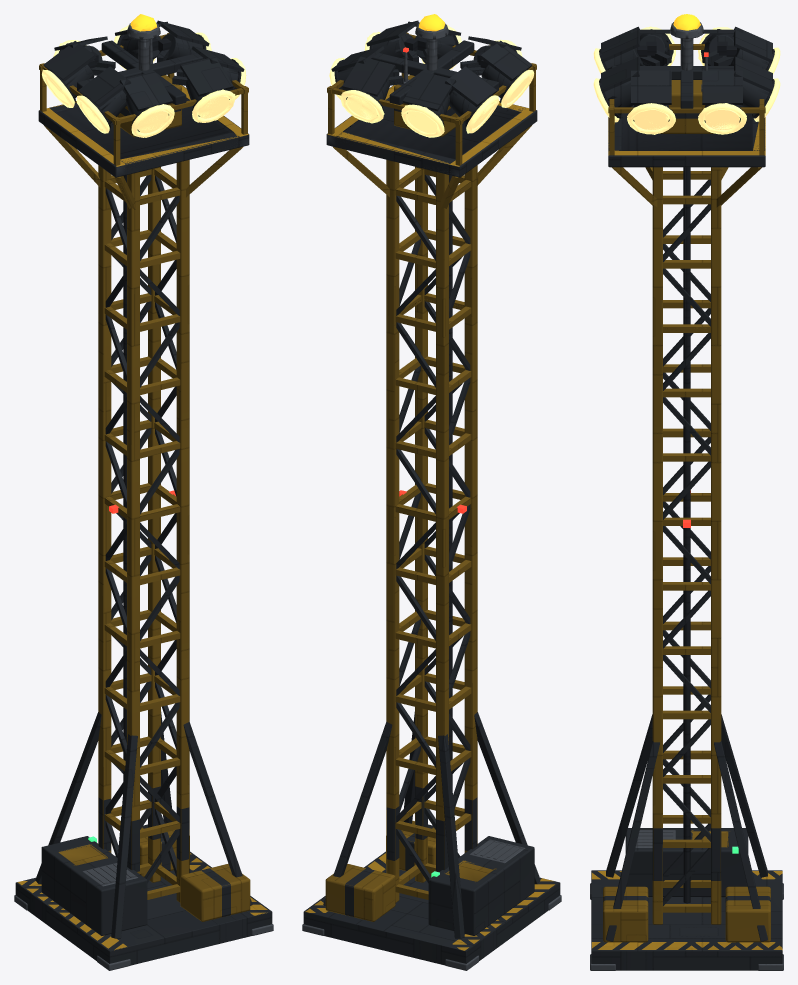
File: place_worklight_tower.glb
3 views of the same model, side by side, from view 1: azimuth 30°, elevation 25°; view 2: azimuth 150°, elevation 25°; view 3: azimuth 270°, elevation 25° (orthographic).
Parts seen in each view (by area): view 1: LOD0_Armor, LOD0_Hull, LOD1_Armor, LOD1_Hull, LOD2_MechanicalDark, LOD0_Lights_Warm, LOD0_MechanicalDark, LOD0_Mechanical, LOD0_Warning, LOD2_Lights_Warm, LOD2_Hull, LOD2_Armor; view 2: LOD0_Hull, LOD0_Armor, LOD1_Armor, LOD1_Hull, LOD2_MechanicalDark, LOD0_Lights_Warm, LOD0_MechanicalDark, LOD0_Mechanical, LOD0_Warning, LOD2_Lights_Warm, LOD2_Hull, LOD2_Armor (+3 smaller); view 3: LOD0_Armor, LOD0_Hull, LOD1_Armor, LOD1_Hull, LOD0_MechanicalDark, LOD2_MechanicalDark, LOD0_Lights_Warm, LOD0_Warning, LOD0_Mechanical, LOD2_Lights_Warm, LOD2_Hull, LOD1_MechanicalDark (+2 smaller).
Part boxes in pixels (left/top/right/bottom): LOD0_Armor: left=15, top=20, right=272, bottom=965; LOD0_Hull: left=39, top=32, right=250, bottom=921; LOD1_Armor: left=30, top=21, right=271, bottom=951; LOD1_Hull: left=39, top=33, right=250, bottom=921; LOD2_MechanicalDark: left=52, top=34, right=240, bottom=489; LOD0_Lights_Warm: left=42, top=26, right=246, bottom=137; LOD0_MechanicalDark: left=48, top=34, right=241, bottom=781; LOD0_Mechanical: left=14, top=23, right=273, bottom=970; LOD0_Warning: left=17, top=85, right=267, bottom=950; LOD2_Lights_Warm: left=42, top=25, right=245, bottom=137; LOD2_Hull: left=59, top=86, right=249, bottom=921; LOD2_Armor: left=42, top=33, right=271, bottom=965; LOD0_Hull: left=325, top=32, right=536, bottom=921; LOD0_Armor: left=303, top=20, right=560, bottom=965; LOD1_Armor: left=306, top=21, right=559, bottom=963; LOD1_Hull: left=326, top=32, right=536, bottom=921; LOD2_MechanicalDark: left=334, top=34, right=528, bottom=772; LOD0_Lights_Warm: left=330, top=26, right=533, bottom=137; LOD0_MechanicalDark: left=334, top=34, right=527, bottom=788; LOD0_Mechanical: left=302, top=23, right=561, bottom=970; LOD0_Warning: left=305, top=85, right=554, bottom=950; LOD2_Lights_Warm: left=329, top=24, right=534, bottom=137; LOD2_Hull: left=326, top=86, right=493, bottom=921; LOD2_Armor: left=307, top=33, right=558, bottom=956; LOD0_Armor: left=591, top=26, right=782, bottom=970; LOD0_Hull: left=603, top=44, right=770, bottom=942; LOD1_Armor: left=591, top=26, right=782, bottom=963; LOD1_Hull: left=603, top=44, right=770, bottom=942; LOD0_MechanicalDark: left=599, top=33, right=774, bottom=903; LOD2_MechanicalDark: left=599, top=29, right=774, bottom=902; LOD0_Lights_Warm: left=593, top=27, right=780, bottom=134; LOD0_Warning: left=591, top=151, right=782, bottom=950; LOD0_Mechanical: left=590, top=22, right=783, bottom=970; LOD2_Lights_Warm: left=593, top=26, right=780, bottom=134; LOD2_Hull: left=603, top=167, right=770, bottom=942; LOD1_MechanicalDark: left=599, top=41, right=774, bottom=902.
Size of what is drawn, in the model's own units: 3 by 15.66 by 3.
9 materials, 5 textured.
